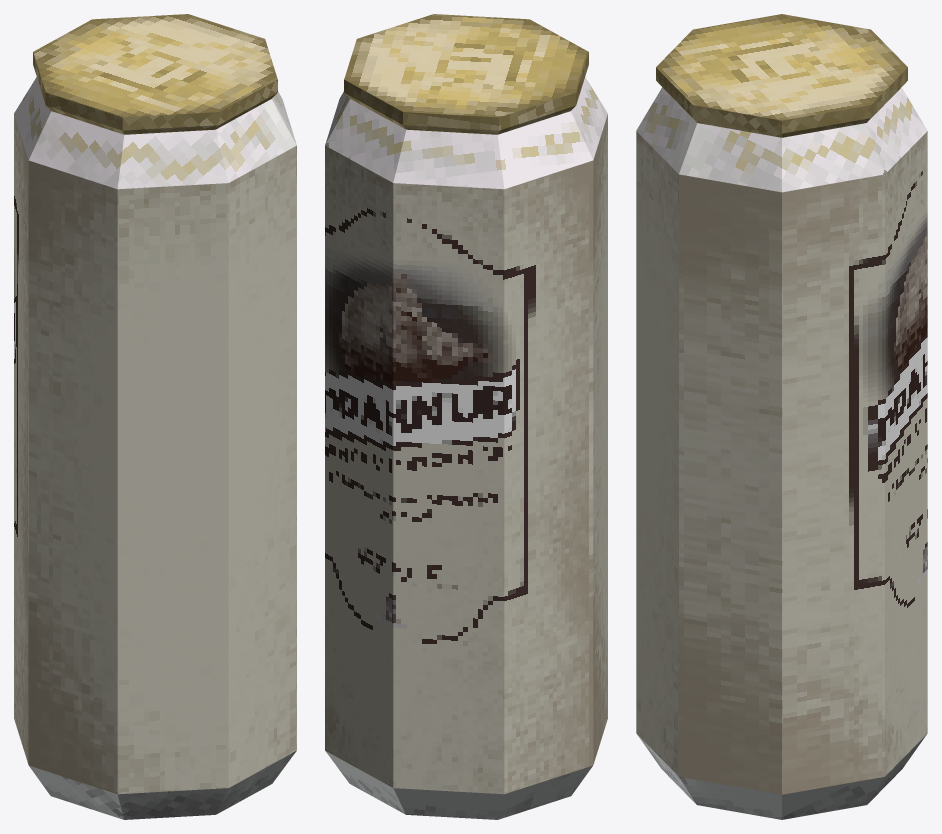
The model's file is puszka.glb.
The picture shows the model from 3 angles, left to right: view 1: azimuth 30°, elevation 25°; view 2: azimuth 150°, elevation 25°; view 3: azimuth 270°, elevation 25°; orthographic projection.
Visible parts, largest first — view 1: Cylinder; view 2: Cylinder; view 3: Cylinder.
Boxes of the visible parts, x1,y1,x2,y2 form: Cylinder: [14, 14, 296, 819]; Cylinder: [325, 14, 607, 819]; Cylinder: [636, 14, 927, 819].
Size of the model in its own units: 1.68 by 4.45 by 1.68.
1 material, 1 textured.
